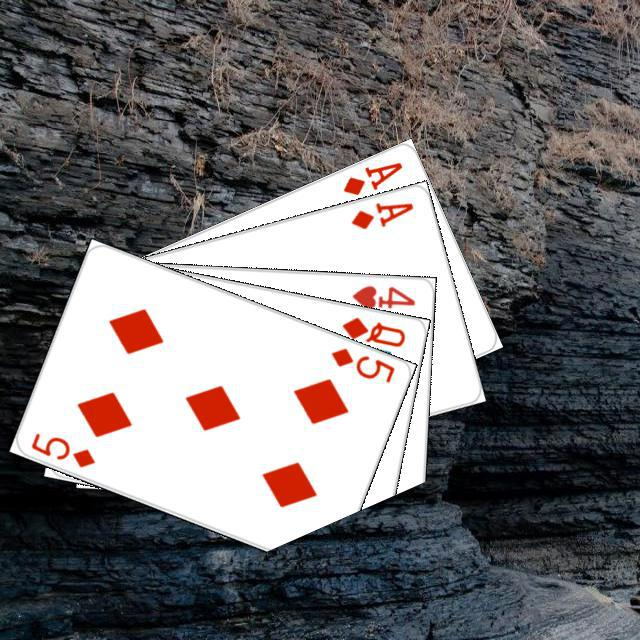4h: (347, 280, 417, 310)
5d: (326, 342, 396, 385), (26, 428, 97, 470)
Ad: (338, 156, 405, 197), (346, 197, 416, 231)
Qd: (337, 312, 407, 349)
